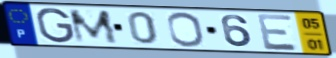0: (125, 10, 162, 47)
6: (220, 14, 254, 48)
E: (255, 13, 301, 52)
G: (35, 7, 77, 45)
M: (66, 9, 121, 45)
O: (165, 11, 207, 48)
